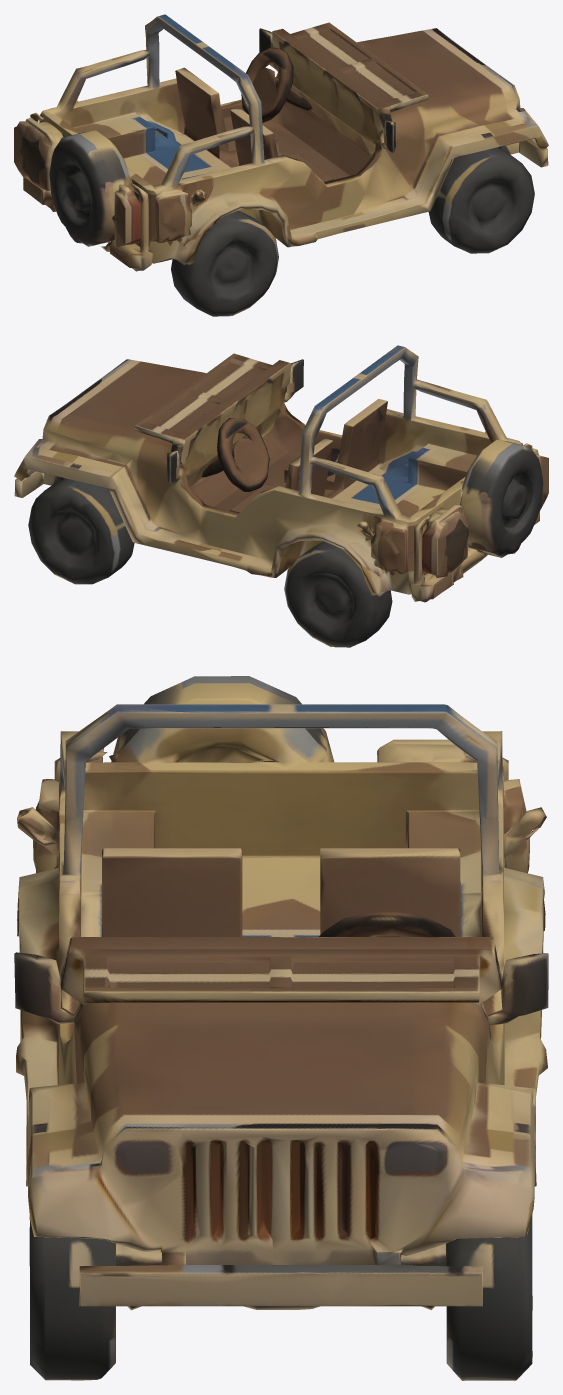
File: desert_jeep.glb
3 views of the same model, one above another, from view 1: azimuth 30°, elevation 25°; view 2: azimuth 150°, elevation 25°; view 3: azimuth 270°, elevation 25° (orthographic). The views are drawn at different scales.
Visible parts, largest first — view 1: tripo_node_56ee00c7-4d6b-4e5a-b86d-fb3c8199e323; view 2: tripo_node_56ee00c7-4d6b-4e5a-b86d-fb3c8199e323; view 3: tripo_node_56ee00c7-4d6b-4e5a-b86d-fb3c8199e323.
Part boxes in pixels (x1=…): tripo_node_56ee00c7-4d6b-4e5a-b86d-fb3c8199e323: x1=14, y1=14, x2=548, y2=316; tripo_node_56ee00c7-4d6b-4e5a-b86d-fb3c8199e323: x1=14, y1=345, x2=548, y2=647; tripo_node_56ee00c7-4d6b-4e5a-b86d-fb3c8199e323: x1=14, y1=676, x2=548, y2=1380.
Bounding box in the file's own units: 0.9998 × 0.479 × 0.5267.
Materials: 1 (1 with a texture image).
